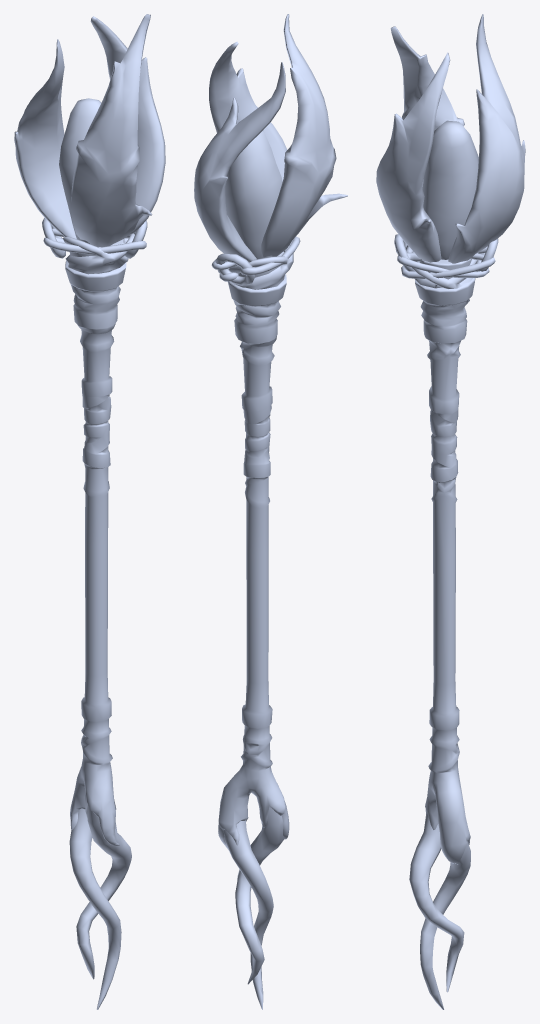
The picture shows the model from 3 angles, left to right: view 1: azimuth 90°, elevation 25°; view 2: azimuth 150°, elevation 25°; view 3: azimuth 270°, elevation 25°; orthographic projection.
Parts seen in each view (by area): view 1: SM_Background_Mountain_LOD0; view 2: SM_Background_Mountain_LOD0; view 3: SM_Background_Mountain_LOD0.
Part boxes in pixels (box(x1,y1,x2,y2)): SM_Background_Mountain_LOD0: box(14, 14, 165, 1009); SM_Background_Mountain_LOD0: box(194, 14, 347, 1009); SM_Background_Mountain_LOD0: box(376, 14, 525, 1009).
Size of the model in its own units: 0.2893 by 2.26 by 0.3109.
